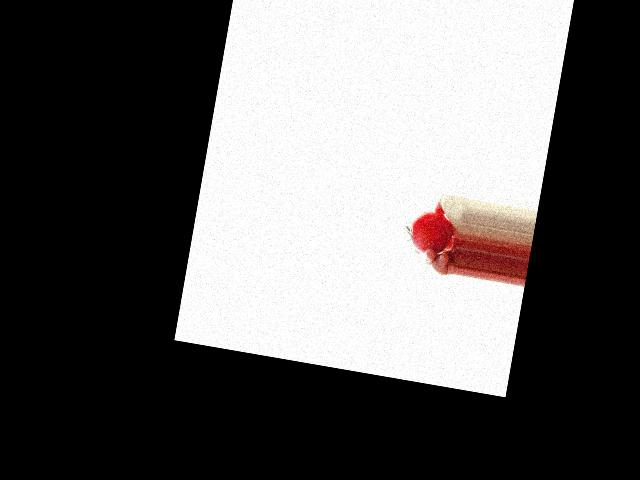tomato: (405, 208, 455, 258)
